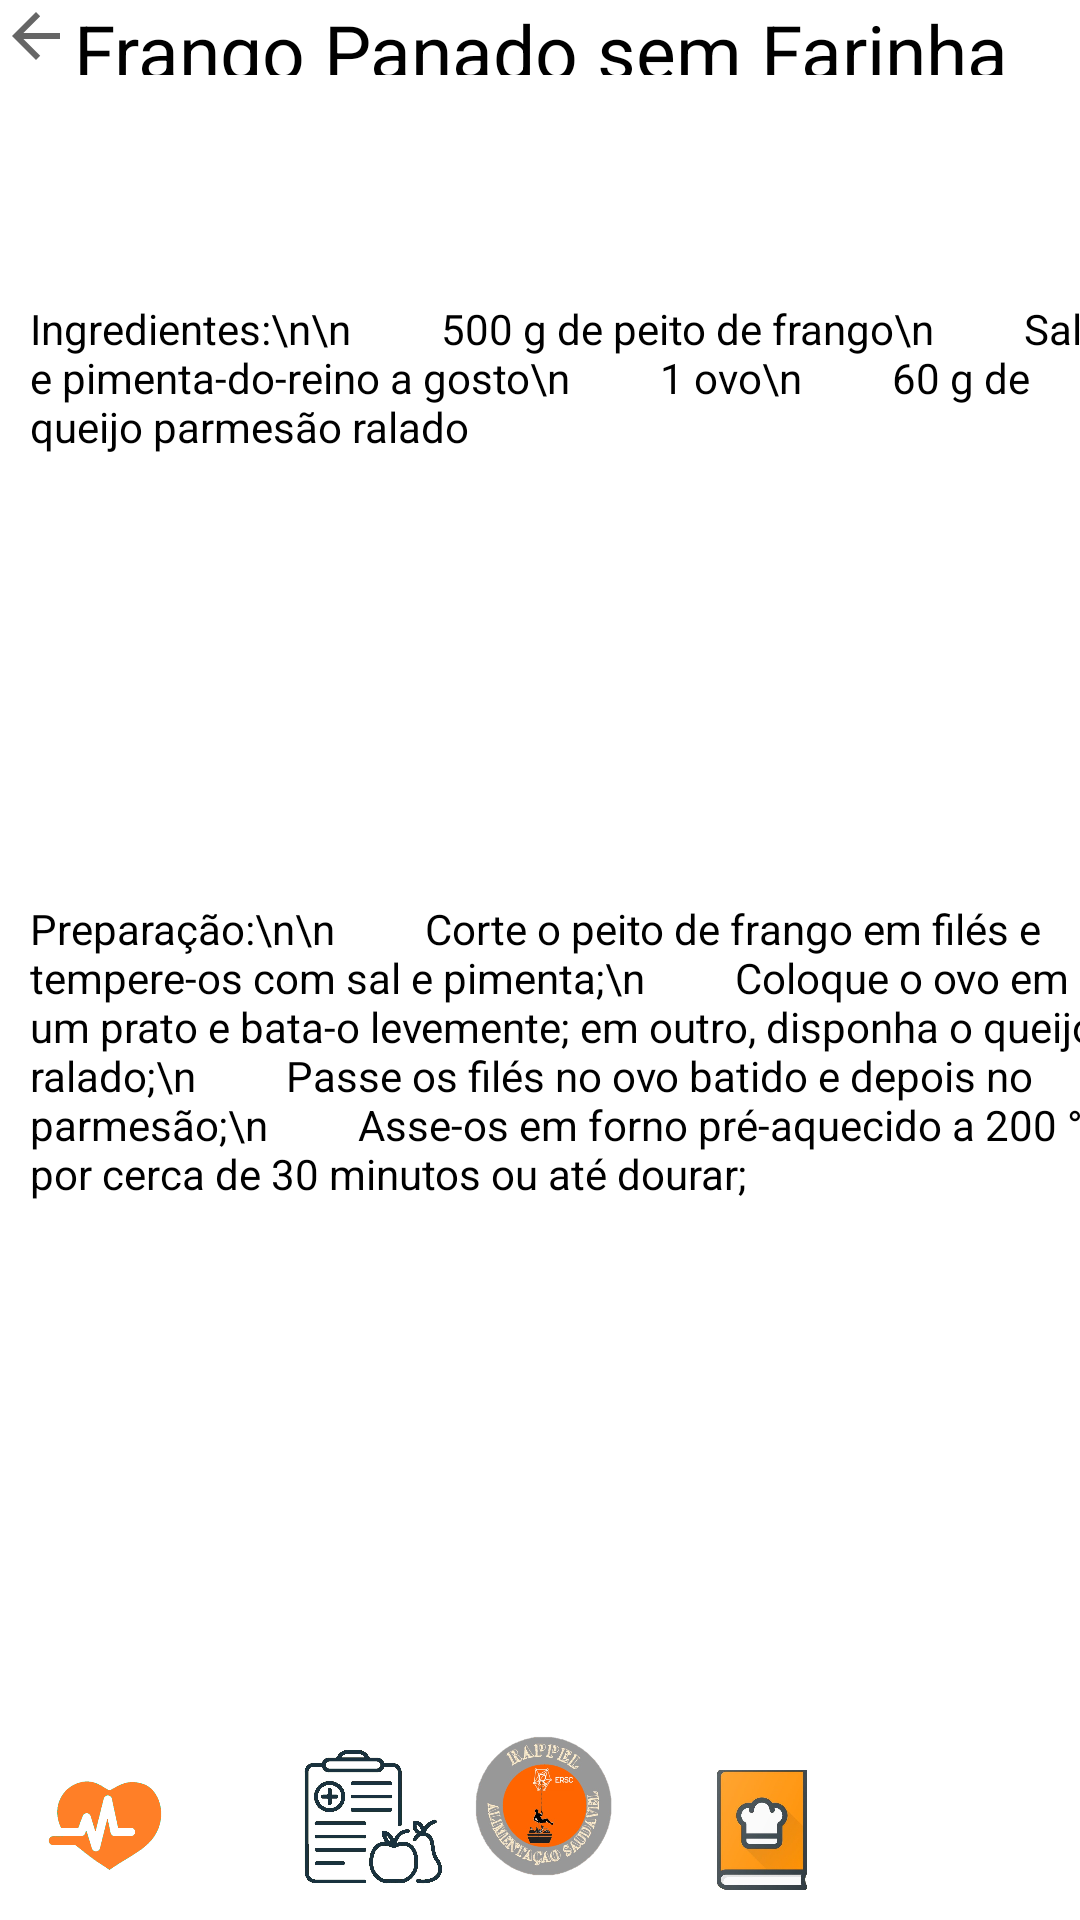

Named icons in this screenshot (1080 x 1920) and their bounding boxes, (left=x1, top=y1, right=x2, bottom=y2):
plano: (left=304, top=1750, right=442, bottom=1883)
planodesaude: (left=49, top=1781, right=161, bottom=1870)
